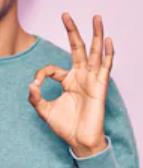left: (25, 10, 115, 149)
